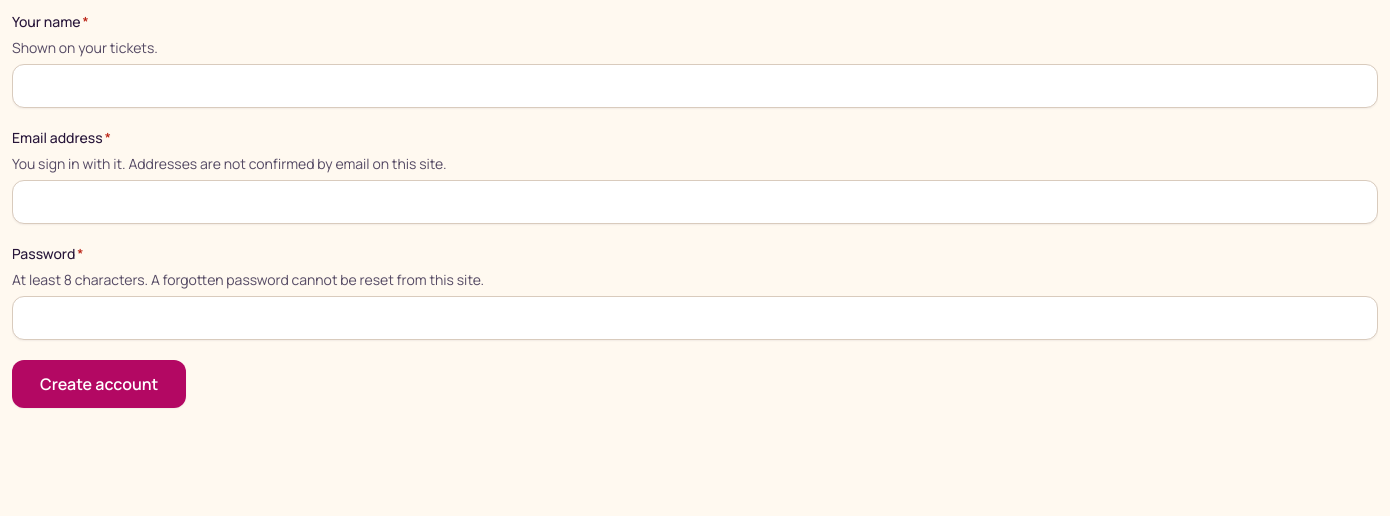
RegisterForm › repeats the API’s own words for a conflict
The width and height of the screenshot is (1390, 516).
In the field labelled "Your name*": (695, 86) [12,64,1378,108], type "Meera Iyer"
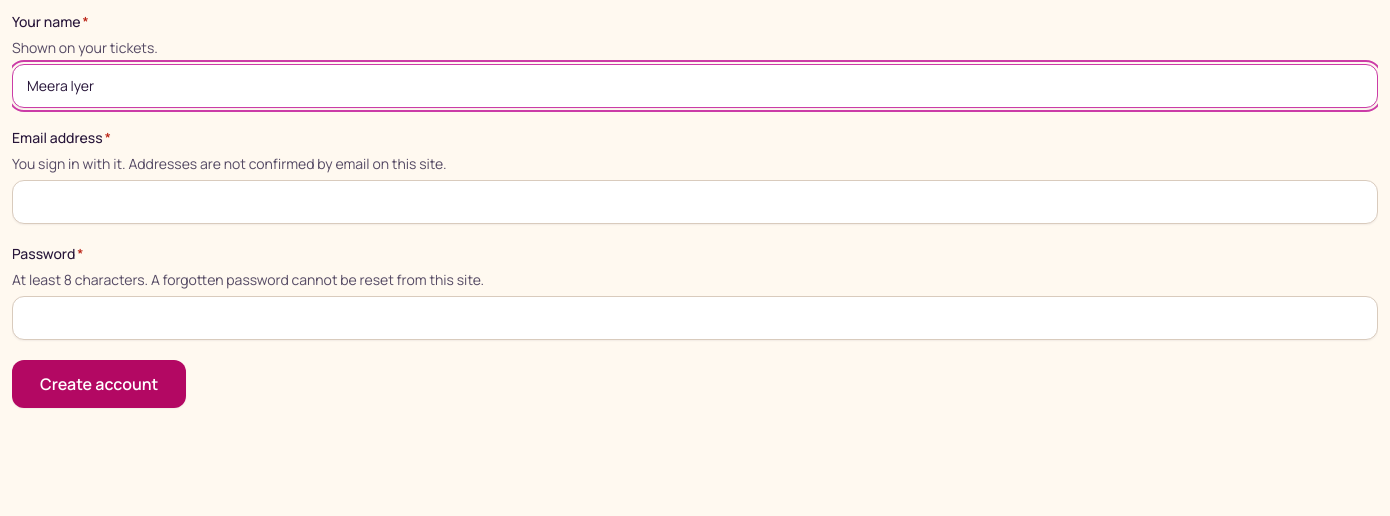
In the field labelled "Email address*": (695, 202) [12,180,1378,224], type "meera@example.test"
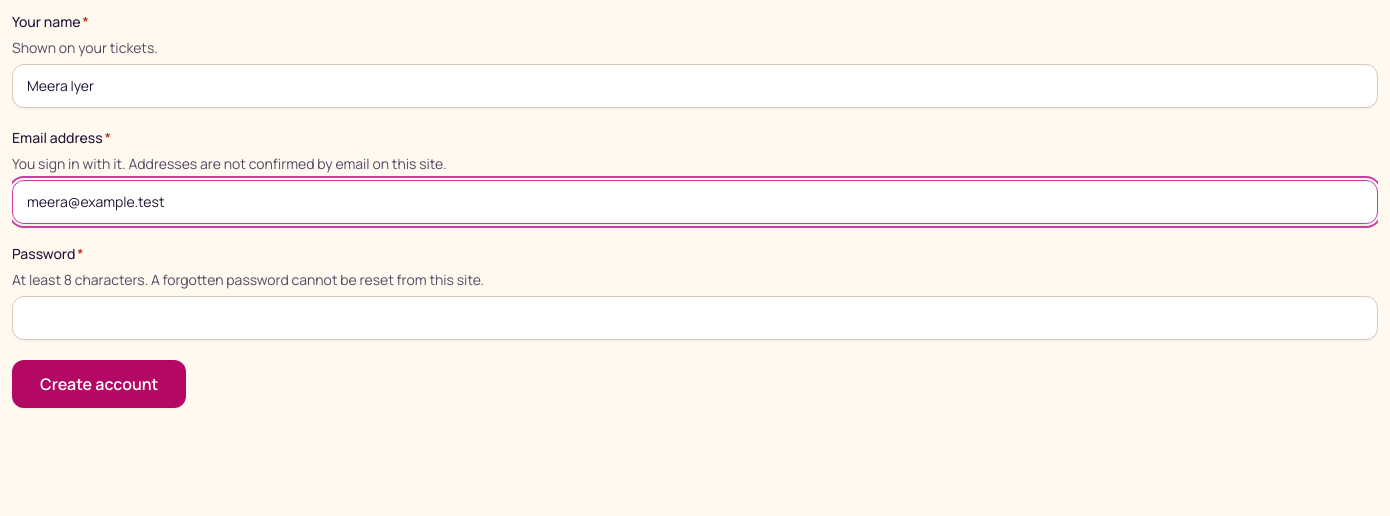
In the password field labelled "Password*": (695, 318) [12,296,1378,340], type "correct horse"
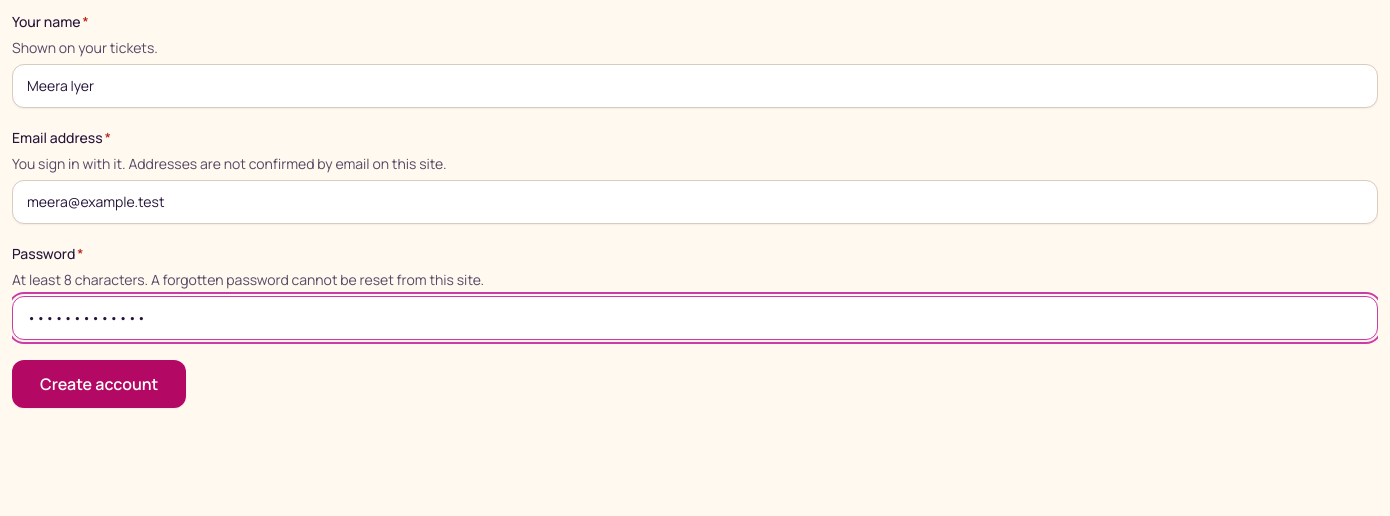
Click the button "Create account": (99, 384) [12,360,186,408]
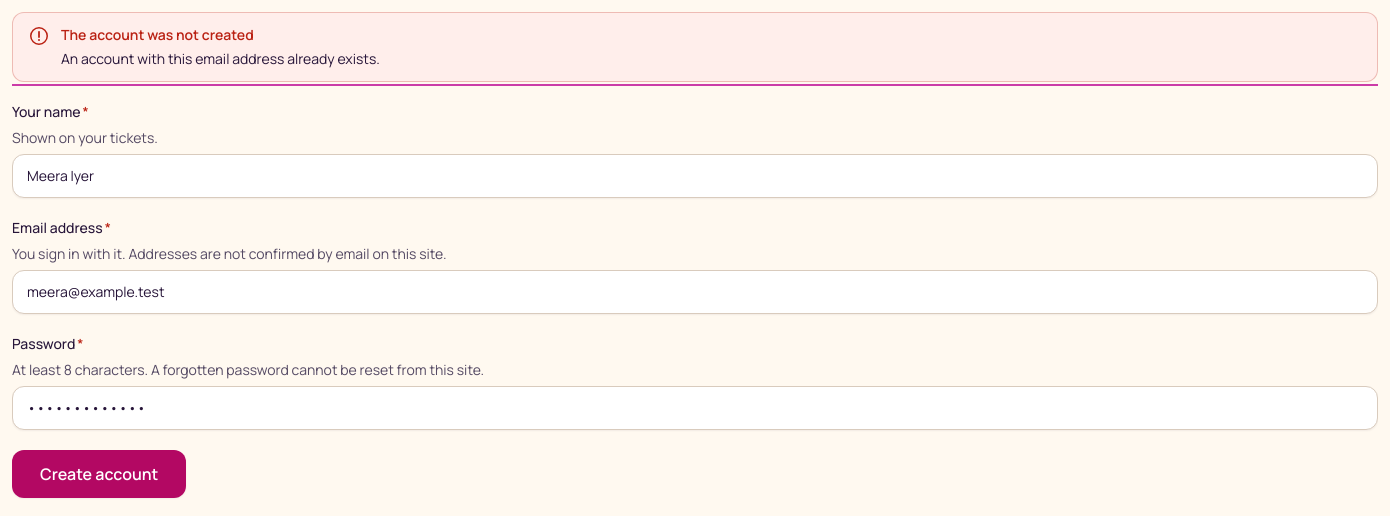
Check: the message shows "An account with this email address already exists.", box [61,49,380,68]
